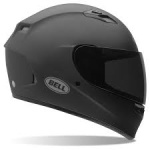Helmet: (3, 2, 148, 142)
